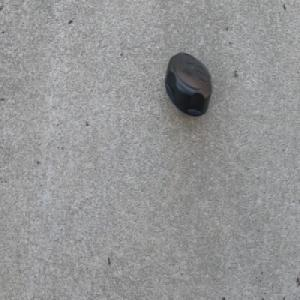FuelCap: (163, 51, 213, 121)
